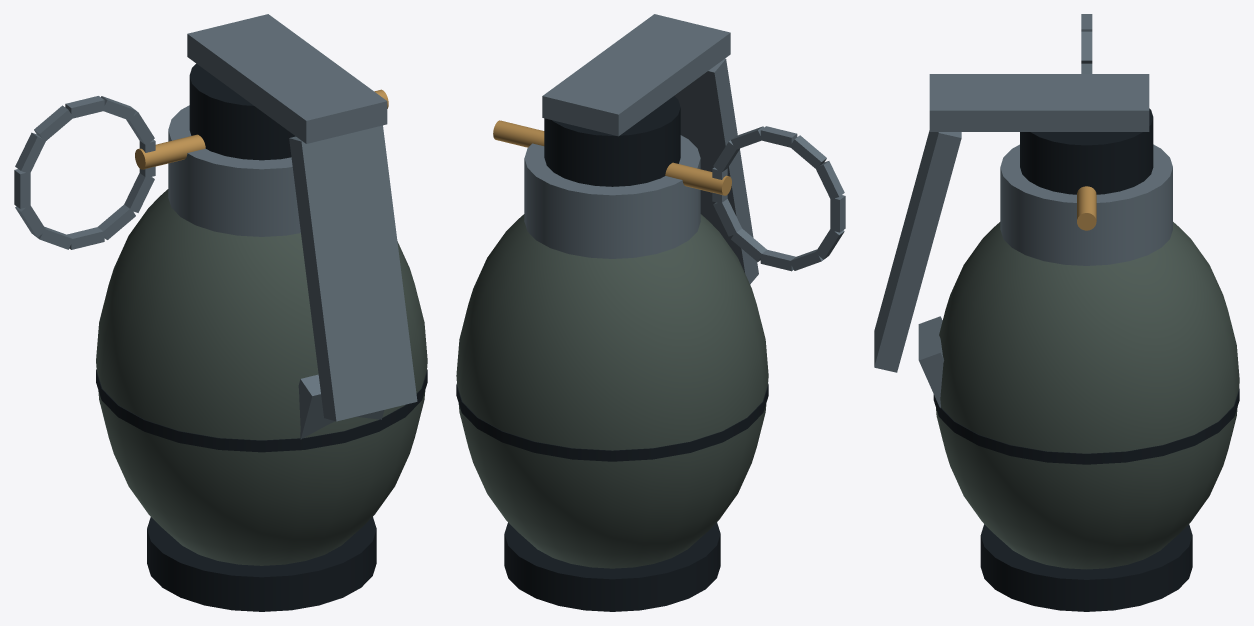
File: FSA_WPN_Throwable_001_Thunder.glb
The picture shows the model from 3 angles, left to right: view 1: azimuth 30°, elevation 25°; view 2: azimuth 150°, elevation 25°; view 3: azimuth 270°, elevation 25°; orthographic projection. The views are drawn at different scales.
Visible parts, largest first — view 1: Shell, LeverSide, LeverTop, Base, Neck, FuseCap, ShellBand_1, LeverTail, PinStem, PinRing_5, PinRing_4, PinRing_11 (+4 smaller); view 2: Shell, Neck, LeverTop, Base, FuseCap, LeverSide, ShellBand_1, PinStem, PinRing_5, PinRing_4, PinRing_11, PinRing_10 (+2 smaller); view 3: Shell, Neck, LeverTop, Base, LeverSide, FuseCap, ShellBand_1, LeverTail, PinStem.
Boxes of the visible parts, <box> form: Shell: <box>96,189,427,565</box>; LeverSide: <box>289,125,417,421</box>; LeverTop: <box>187,14,387,143</box>; Base: <box>147,517,376,611</box>; Neck: <box>168,105,300,236</box>; FuseCap: <box>189,63,295,160</box>; ShellBand_1: <box>96,369,427,452</box>; LeverTail: <box>298,374,384,439</box>; PinStem: <box>135,89,388,169</box>; PinRing_5: <box>15,132,45,173</box>; PinRing_4: <box>34,105,72,141</box>; PinRing_11: <box>124,173,154,212</box>; Shell: <box>456,214,768,568</box>; Neck: <box>524,135,700,258</box>; LeverTop: <box>542,14,730,136</box>; Base: <box>504,522,720,611</box>; FuseCap: <box>544,96,680,186</box>; LeverSide: <box>674,58,758,284</box>; ShellBand_1: <box>456,383,768,461</box>; PinStem: <box>493,120,731,195</box>; PinRing_5: <box>816,161,844,199</box>; PinRing_4: <box>790,135,826,169</box>; PinRing_11: <box>713,199,741,236</box>; PinRing_10: <box>731,228,766,261</box>; Shell: <box>936,222,1239,569</box>; Neck: <box>1000,144,1172,265</box>; LeverTop: <box>929,74,1149,131</box>; Base: <box>980,524,1192,611</box>; LeverSide: <box>874,130,961,372</box>; FuseCap: <box>1020,108,1153,194</box>; ShellBand_1: <box>933,388,1239,464</box>; LeverTail: <box>918,316,943,407</box>; PinStem: <box>1077,186,1096,230</box>.
Size of the model in its own units: 0.1054 by 0.1335 by 0.0931.
